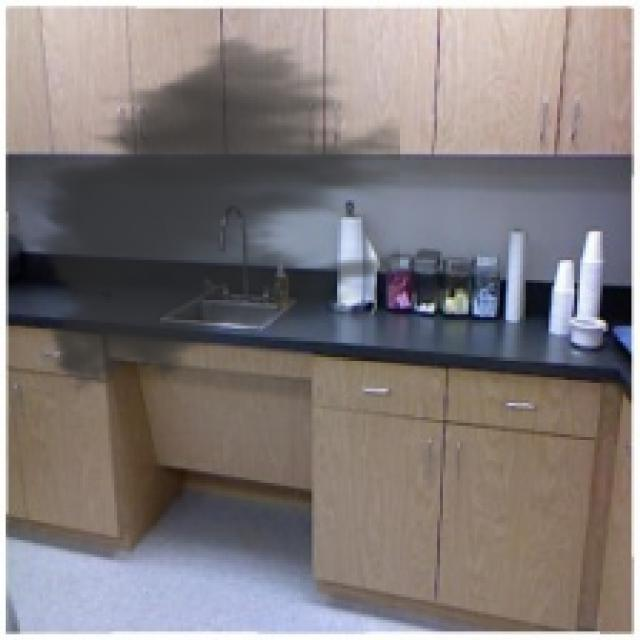Smoke: (17, 26, 400, 403)
